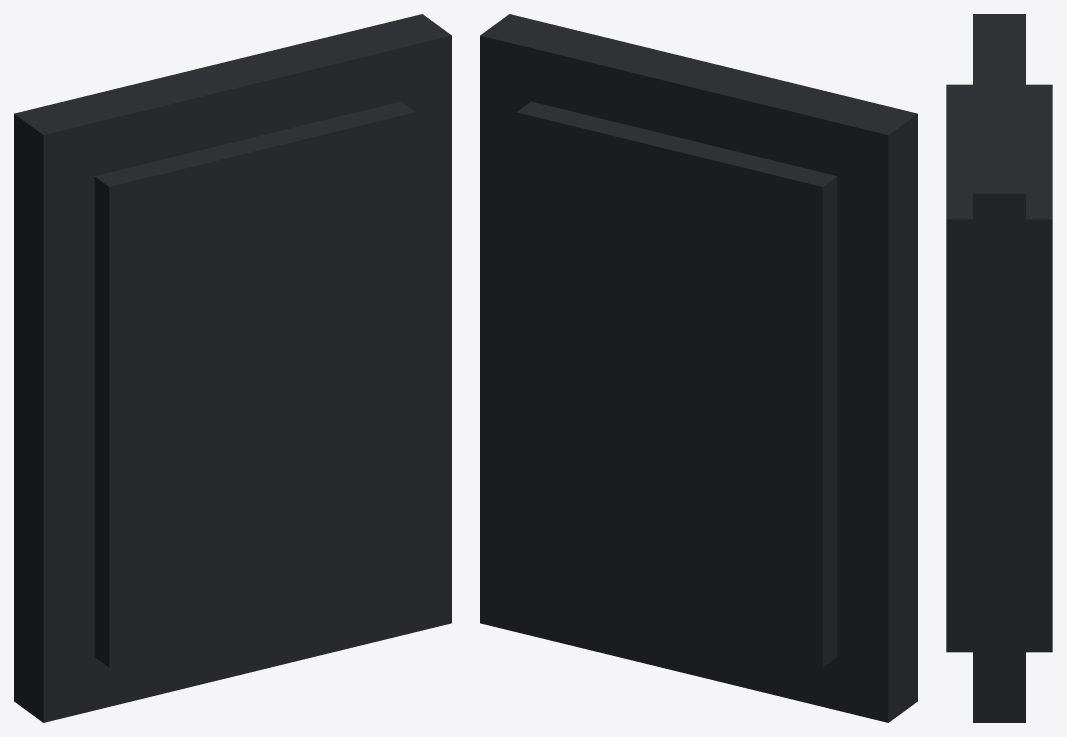
Rendered from Switch Base.glb.
3 views of the same model, side by side, from view 1: azimuth 30°, elevation 25°; view 2: azimuth 150°, elevation 25°; view 3: azimuth 270°, elevation 25° (orthographic). The views are drawn at different scales.
Visible parts, largest first — view 1: generated(Clone); view 2: generated(Clone); view 3: generated(Clone).
Boxes of the visible parts, box(x1,y1,x2,y2) form: generated(Clone): box(14, 14, 451, 722); generated(Clone): box(480, 14, 917, 722); generated(Clone): box(946, 14, 1052, 722).
Size of the model in its own units: 8 by 11 by 2.
Materials: 1 (1 with a texture image).
